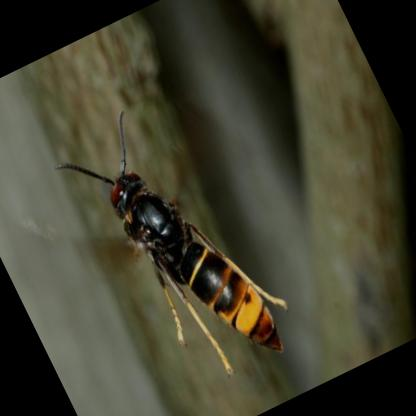asian: (42, 77, 321, 415)
